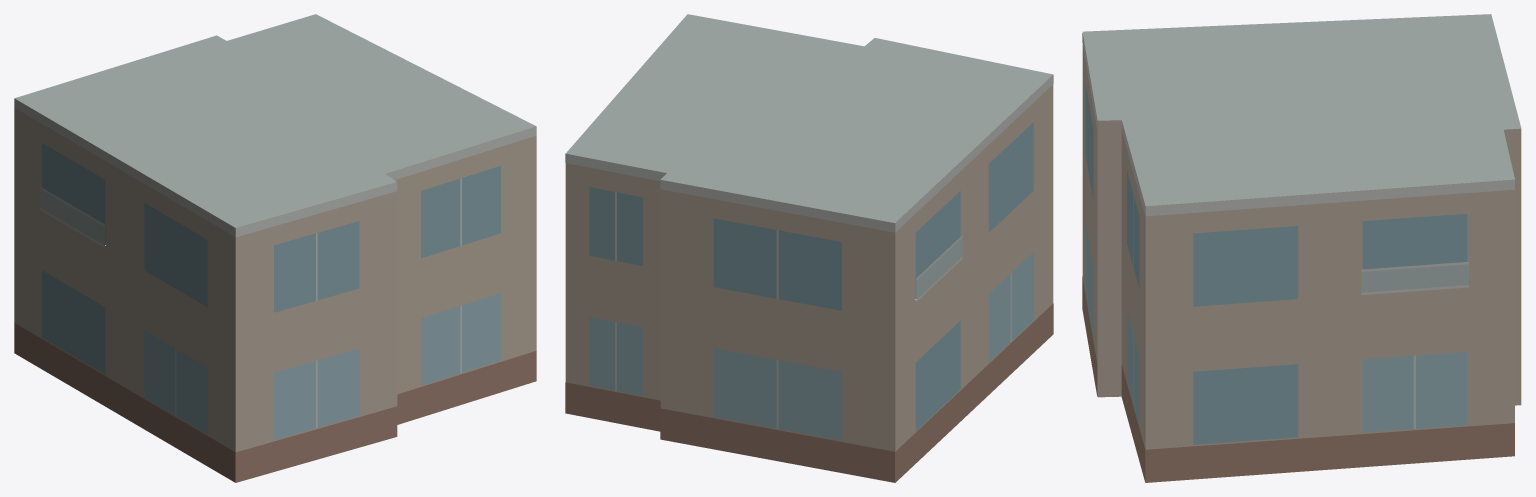
Rendered from survey-upis-32491852.glb.
3 views of the same model, side by side, from view 1: azimuth 30°, elevation 25°; view 2: azimuth 150°, elevation 25°; view 3: azimuth 270°, elevation 25° (orthographic). The views are drawn at different scales.
Visible parts, largest first — view 1: survey-upis-32491852.tmp; view 2: survey-upis-32491852.tmp; view 3: survey-upis-32491852.tmp.
Boxes of the visible parts, x1,y1,x2,y2 form: survey-upis-32491852.tmp: (14, 14, 536, 482); survey-upis-32491852.tmp: (565, 14, 1053, 482); survey-upis-32491852.tmp: (1082, 14, 1521, 482).
Size of the model in its own units: 10 by 6.7 by 9.65.
